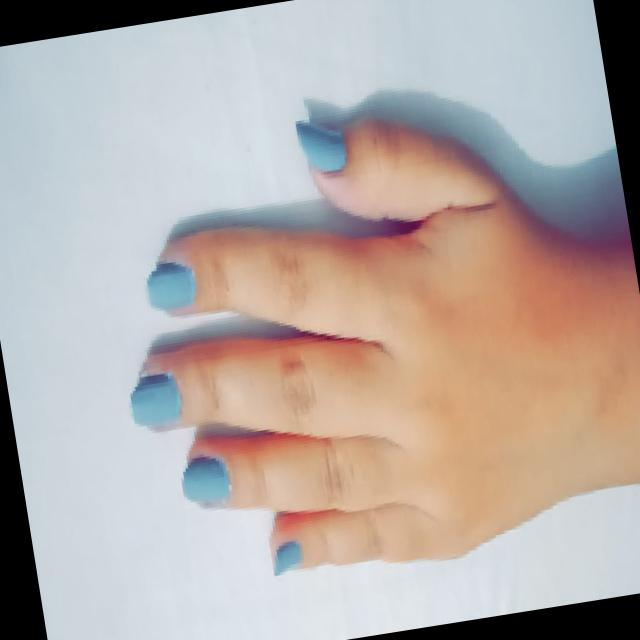Nail: (130, 373, 182, 429), (295, 122, 346, 173), (181, 456, 230, 507), (147, 262, 196, 311), (273, 542, 301, 574)
